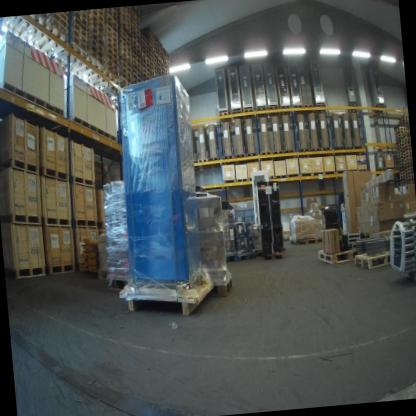pallet: (116, 267, 219, 330), (196, 104, 258, 172), (0, 76, 68, 134), (66, 103, 125, 162), (353, 246, 405, 277), (31, 22, 72, 60), (317, 243, 362, 273), (53, 41, 89, 72), (208, 275, 239, 309), (7, 260, 46, 287), (71, 52, 106, 82), (42, 162, 74, 193), (1, 208, 46, 229), (86, 67, 121, 93), (0, 153, 38, 174), (105, 276, 139, 299), (259, 245, 286, 266), (42, 212, 72, 230), (100, 268, 122, 292), (49, 261, 75, 280), (43, 18, 68, 37), (74, 216, 100, 230), (236, 250, 259, 265), (70, 28, 88, 47), (375, 101, 392, 120), (88, 47, 105, 66), (74, 174, 97, 188), (290, 98, 305, 119), (71, 21, 88, 39), (72, 35, 88, 54), (50, 14, 69, 30), (294, 235, 318, 247), (346, 100, 361, 119), (256, 101, 270, 121), (90, 37, 106, 54), (105, 64, 121, 80), (268, 103, 283, 120), (206, 153, 221, 169), (104, 56, 120, 71), (105, 51, 119, 68), (104, 45, 118, 62), (89, 43, 103, 58), (280, 101, 292, 118), (223, 249, 238, 262), (120, 75, 133, 89), (282, 147, 299, 157), (303, 102, 314, 117), (120, 71, 132, 84), (245, 149, 260, 159), (261, 149, 273, 161), (222, 152, 235, 163), (234, 177, 248, 187), (320, 144, 335, 153), (316, 102, 327, 114), (233, 152, 246, 162), (393, 125, 406, 135), (272, 149, 284, 159), (275, 173, 287, 182), (297, 148, 311, 155), (334, 144, 346, 152), (311, 146, 321, 155), (394, 130, 405, 138), (345, 144, 355, 152), (376, 166, 388, 172), (403, 150, 412, 158), (403, 153, 412, 161), (357, 167, 368, 173), (355, 144, 364, 151), (403, 157, 412, 164), (405, 174, 414, 181), (405, 167, 413, 174), (267, 176, 277, 181), (405, 171, 413, 177), (406, 177, 414, 183), (400, 171, 406, 177)
